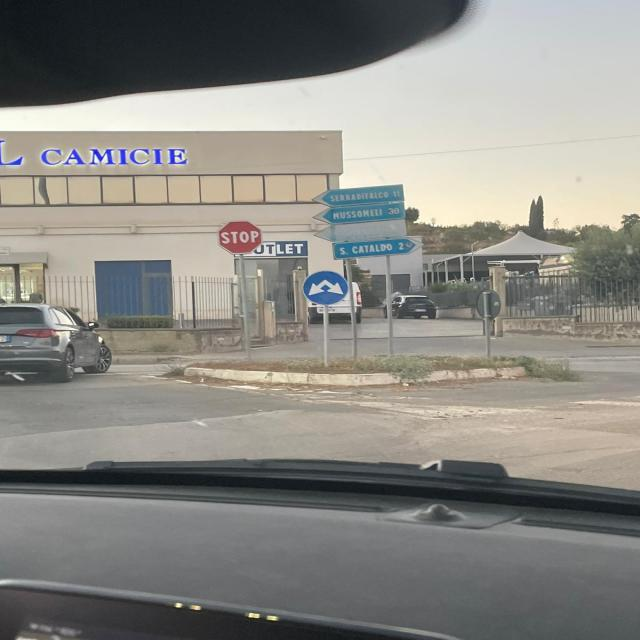prio_stop: (217, 220, 262, 255)
